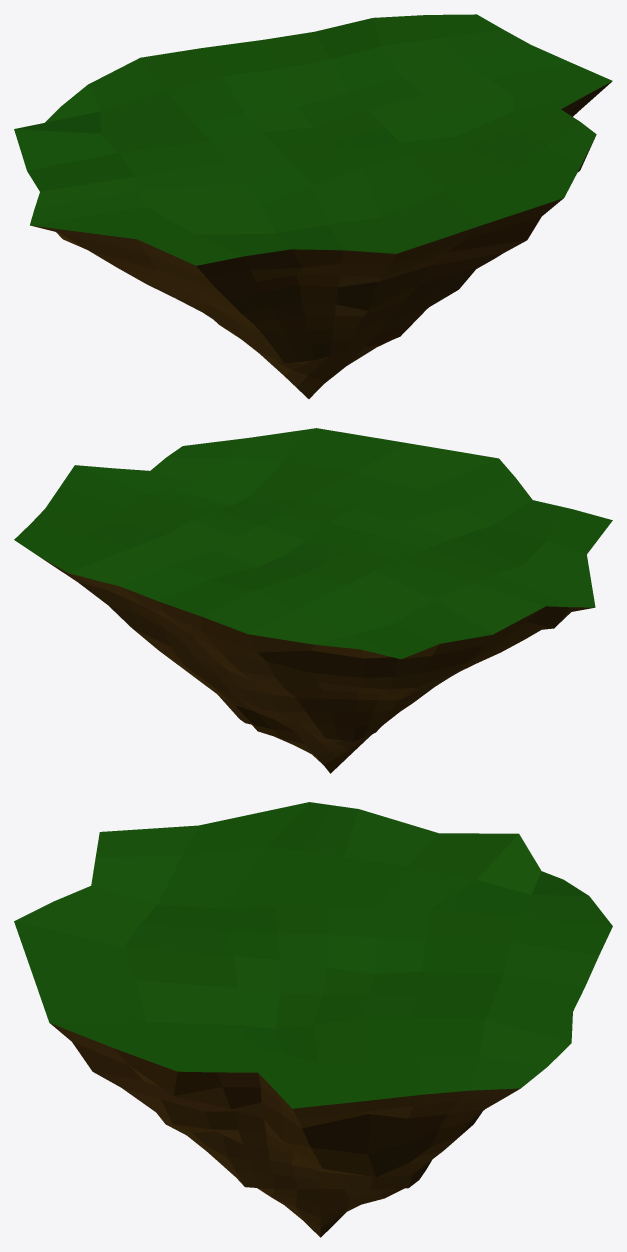
The model's file is Island.fbx.
The picture shows the model from 3 angles, top to bottom: view 1: azimuth 30°, elevation 25°; view 2: azimuth 150°, elevation 25°; view 3: azimuth 270°, elevation 25°; orthographic projection. The views are drawn at different scales.
Visible parts, largest first — view 1: Cube; view 2: Cube; view 3: Cube.
Boxes of the visible parts, x1,y1,x2,y2 form: Cube: (14,14,612,398); Cube: (14,428,612,773); Cube: (14,802,612,1237).
Bounding box in the file's own units: 2253 × 989 × 1796.
